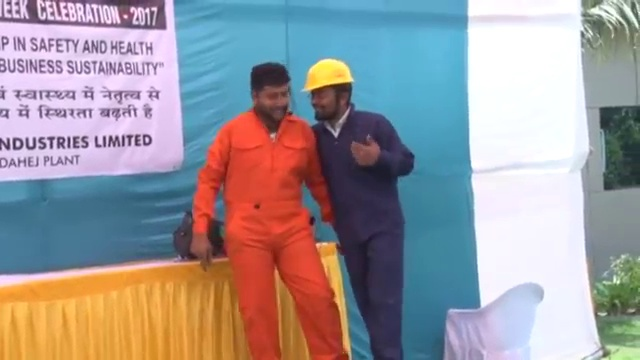helmet: (300, 57, 356, 94)
helmet_off: (249, 60, 295, 123)
helmet_on: (300, 56, 359, 125)
person: (191, 60, 338, 360), (301, 54, 419, 360)
